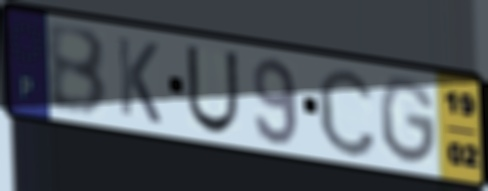9: (250, 54, 301, 147)
B: (44, 23, 110, 120)
C: (314, 64, 379, 160)
G: (377, 74, 439, 169)
K: (114, 32, 164, 128)
U: (183, 42, 241, 136)
